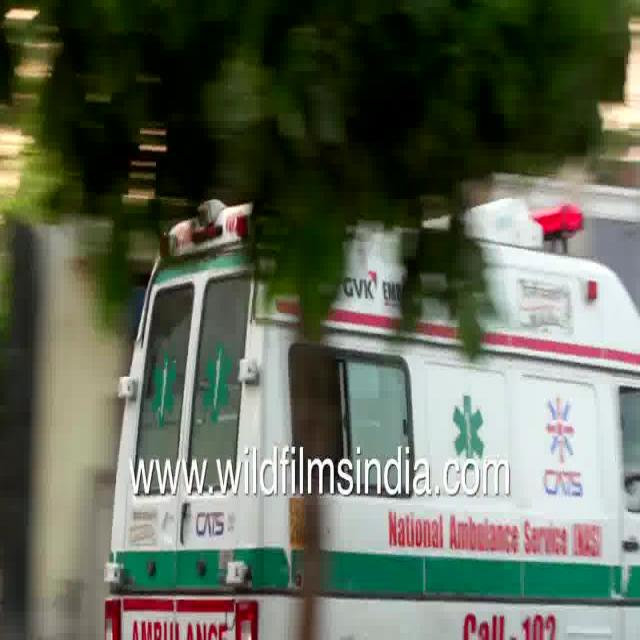ambulance: (125, 184, 640, 450), (101, 493, 640, 640)
